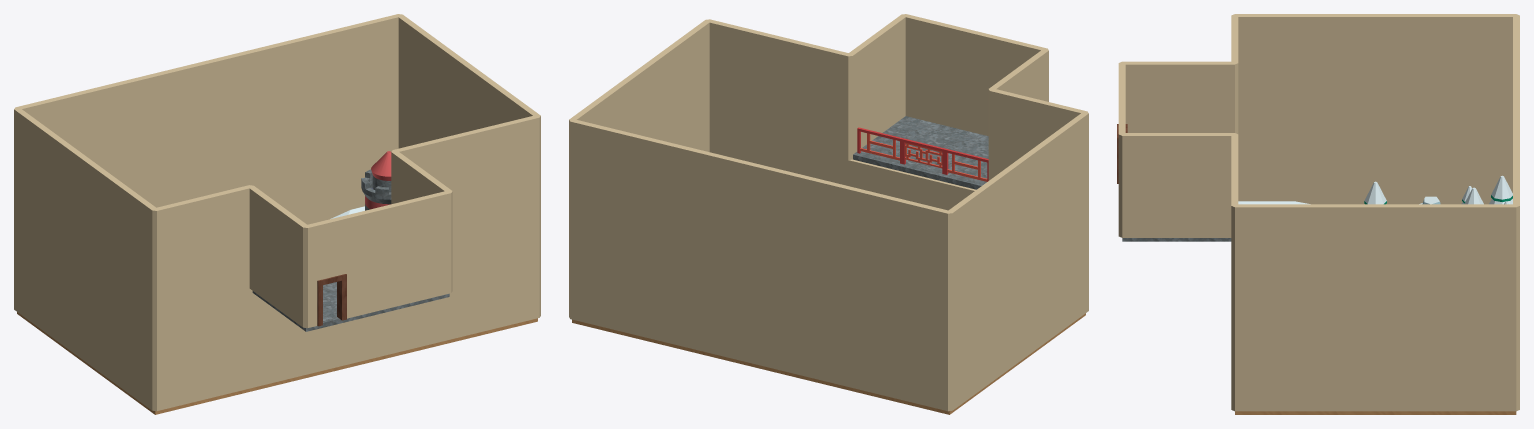
Rendered from Level_2_3.fbx.
The picture shows the model from 3 angles, left to right: view 1: azimuth 30°, elevation 25°; view 2: azimuth 150°, elevation 25°; view 3: azimuth 270°, elevation 25°; orthographic projection. The views are drawn at different scales.
Visible parts, largest first — view 1: mergedBlocks; view 2: mergedBlocks; view 3: mergedBlocks.
Part boxes in pixels (box(x1,y1,x2,y2)): mergedBlocks: box(14, 14, 540, 414); mergedBlocks: box(569, 14, 1088, 414); mergedBlocks: box(1117, 14, 1519, 414).
Bounding box in the file's own units: 162 × 82 × 143.
16 materials, 3 textured.
